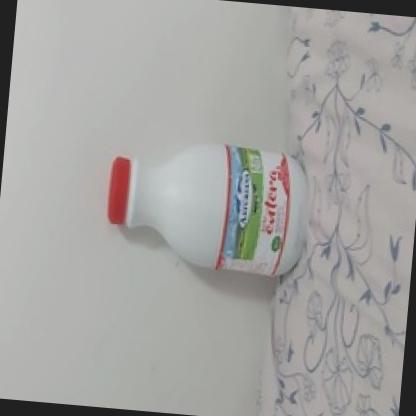plastic_bottles: (87, 130, 322, 290)
